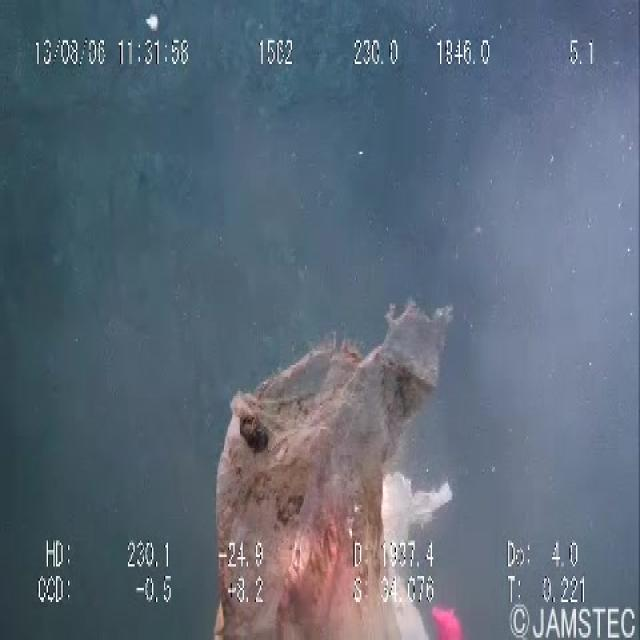plastic: (190, 272, 494, 638)
